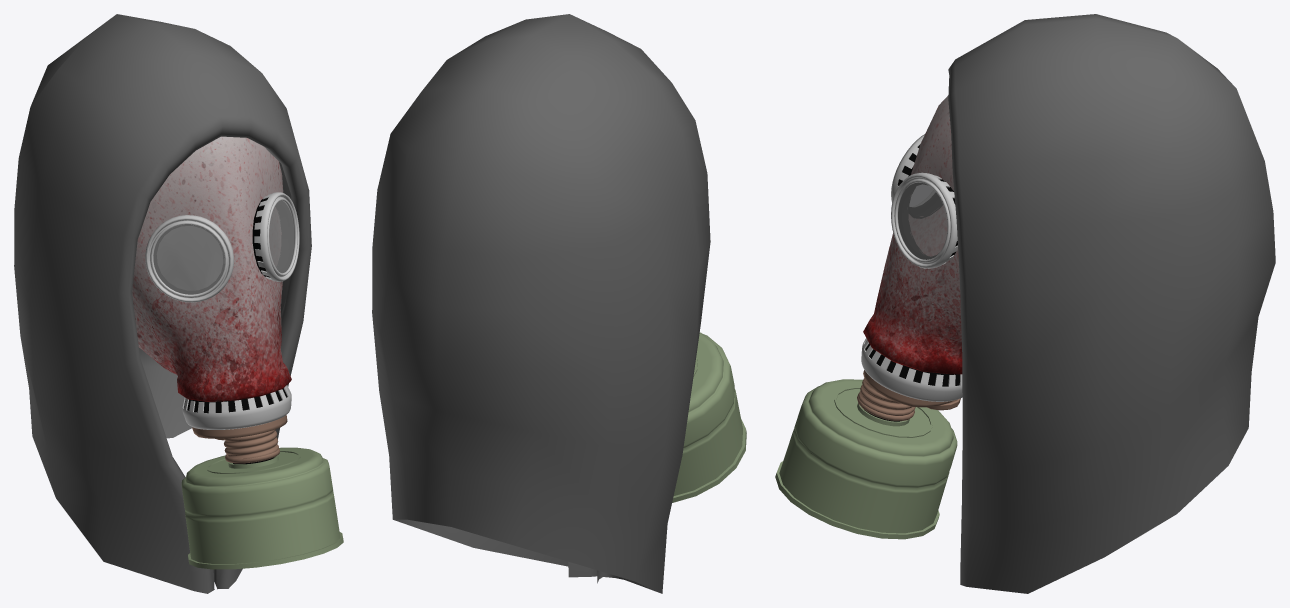
The model's file is gas-mask.fbx.
3 views of the same model, side by side, from view 1: azimuth 30°, elevation 25°; view 2: azimuth 150°, elevation 25°; view 3: azimuth 270°, elevation 25° (orthographic). The views are drawn at different scales.
Parts seen in each view (by area): view 1: hood, mask, filter, eyepieceRight, neck, eyepieceLeft; view 2: hood, filter; view 3: hood, filter, mask, eyepieceLeft, eyepieceRight.
Part boxes in pixels (<box>): hood: <box>14,14,311,593</box>; mask: <box>132,136,291,401</box>; filter: <box>181,385,343,569</box>; eyepieceRight: <box>145,215,233,302</box>; neck: <box>139,226,222,438</box>; eyepieceLeft: <box>252,192,299,281</box>; hood: <box>372,14,710,593</box>; filter: <box>672,332,746,502</box>; hood: <box>948,14,1275,593</box>; filter: <box>775,338,962,539</box>; mask: <box>863,95,962,374</box>; eyepieceLeft: <box>891,172,957,268</box>; eyepieceRight: <box>891,134,942,218</box>.
Size of the model in its own units: 0.7565 by 1.53 by 1.24.
Materials: 8 (1 with a texture image).
